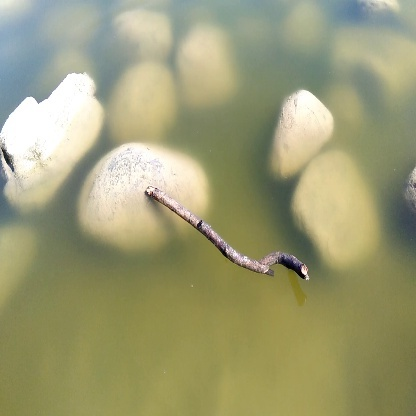branch: (145, 179, 322, 298)
